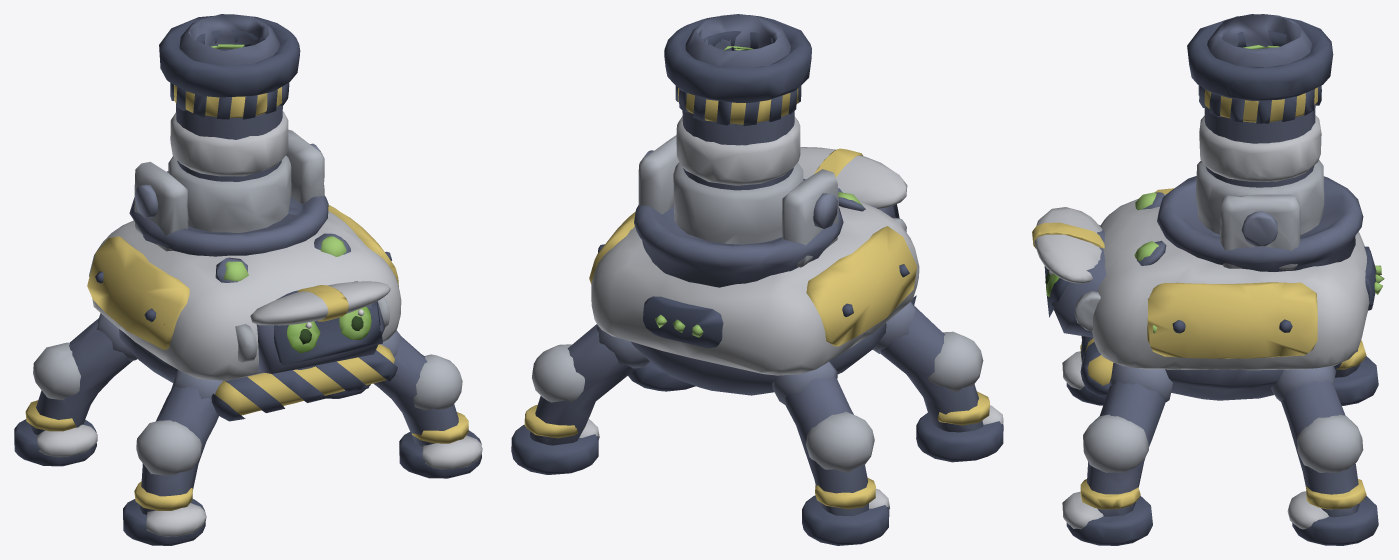
Rendered from mortar.glb.
3 renders of one model, left to right at view 1: azimuth 30°, elevation 25°; view 2: azimuth 150°, elevation 25°; view 3: azimuth 270°, elevation 25°, orthographic. The views are drawn at different scales.
Visible parts, largest first — view 1: body, tube, leg_fr, leg_br, leg_fl, head, head_glow, body_glow; view 2: body, tube, leg_br, leg_fr, leg_bl, head, leg_fl; view 3: body, tube, leg_fl, leg_bl, head, leg_br, leg_fr, body_glow.
Part boxes in pixels (<box>): body: <box>87,129,401,421</box>; tube: <box>159,14,300,232</box>; leg_fr: <box>123,370,222,545</box>; leg_br: <box>14,313,137,466</box>; leg_fl: <box>373,330,482,478</box>; head: <box>235,281,390,373</box>; head_glow: <box>287,306,371,353</box>; body_glow: <box>164,236,346,324</box>; body: <box>589,135,919,395</box>; tube: <box>664,14,811,244</box>; leg_br: <box>772,361,889,545</box>; leg_fr: <box>872,301,1003,462</box>; leg_bl: <box>511,324,649,474</box>; head: <box>798,147,907,232</box>; leg_fl: <box>628,361,695,391</box>; body: <box>1080,176,1376,400</box>; tube: <box>1187,14,1333,234</box>; leg_fl: <box>1062,363,1172,545</box>; leg_bl: <box>1271,366,1378,545</box>; head: <box>1032,207,1106,337</box>; leg_br: <box>1333,340,1378,405</box>; leg_fr: <box>1062,344,1106,405</box>; body_glow: <box>1134,192,1384,333</box>.
Bounding box in the file's own units: 0.8325 × 0.9435 × 0.7037.
